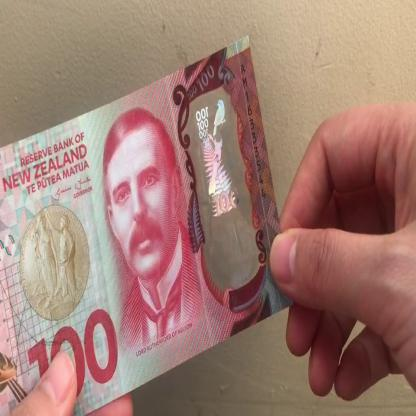100F: (195, 95, 257, 284)
